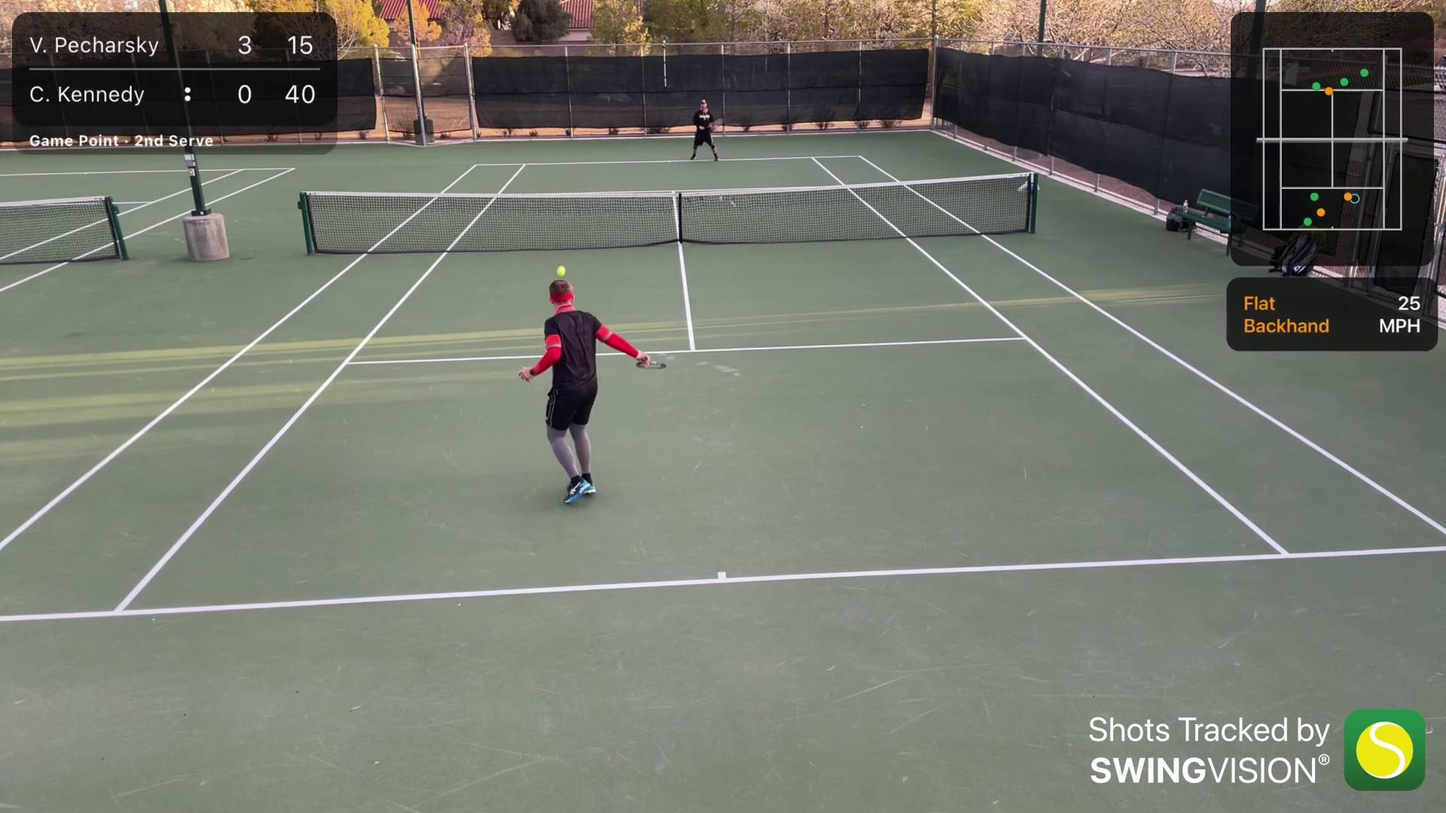ball: (553, 263, 570, 280)
